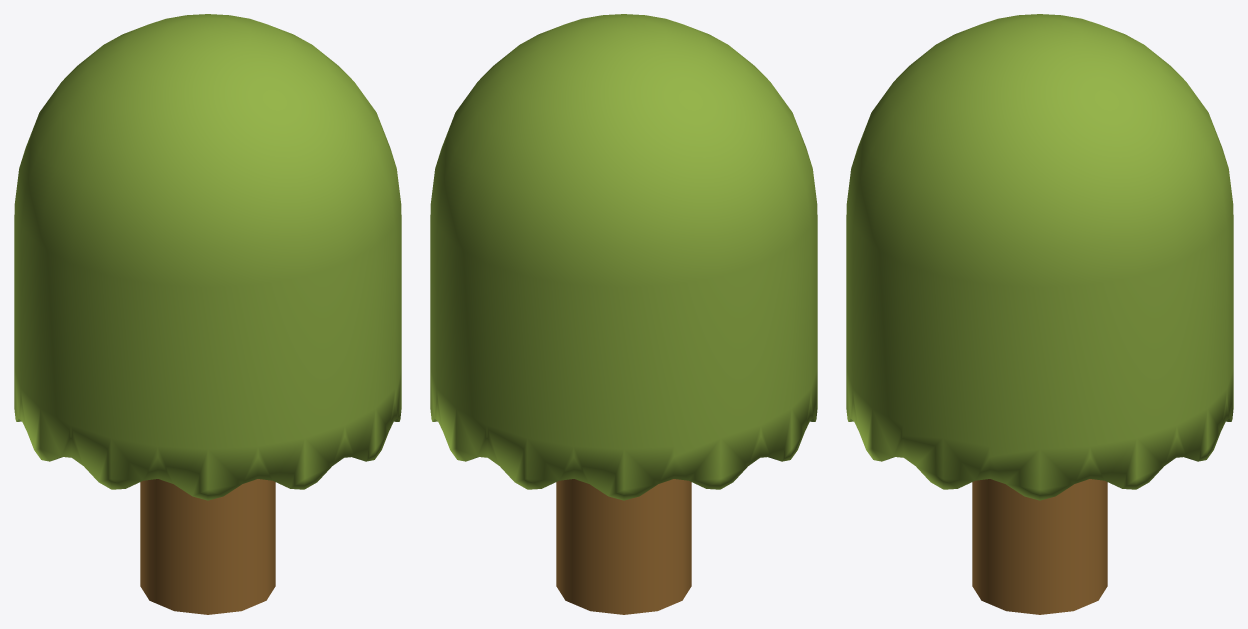
File: tree4.fbx
3 renders of one model, left to right at view 1: azimuth 30°, elevation 25°; view 2: azimuth 150°, elevation 25°; view 3: azimuth 270°, elevation 25°, orthographic.
Parts seen in each view (by area): view 1: tree.003; view 2: tree.003; view 3: tree.003.
Boxes of the visible parts, x1,y1,x2,y2 form: tree.003: (14, 14, 401, 614); tree.003: (430, 14, 817, 614); tree.003: (846, 14, 1233, 614).
Size of the model in its own units: 146 by 230 by 146.
